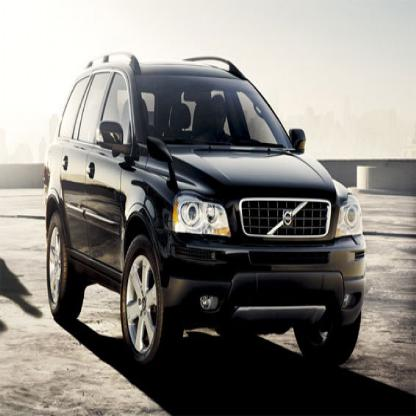Vehicle: (45, 56, 367, 378)
